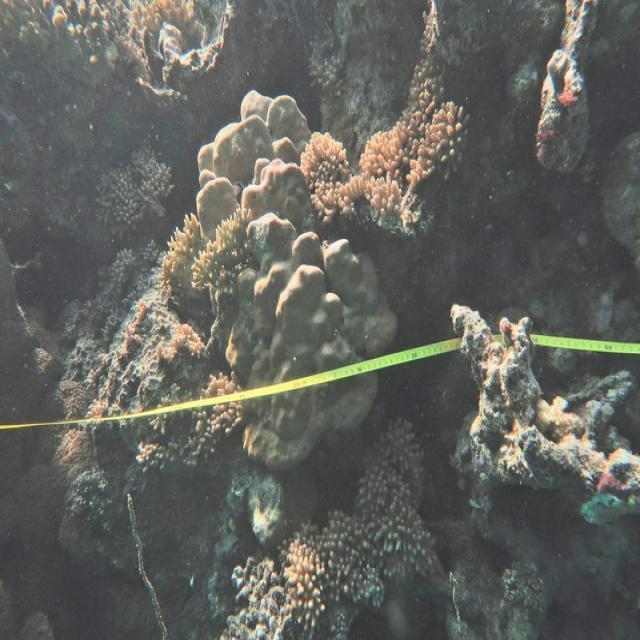Healthy Coral: (308, 110, 490, 226), (273, 514, 423, 638), (358, 428, 446, 530), (90, 150, 182, 224)
